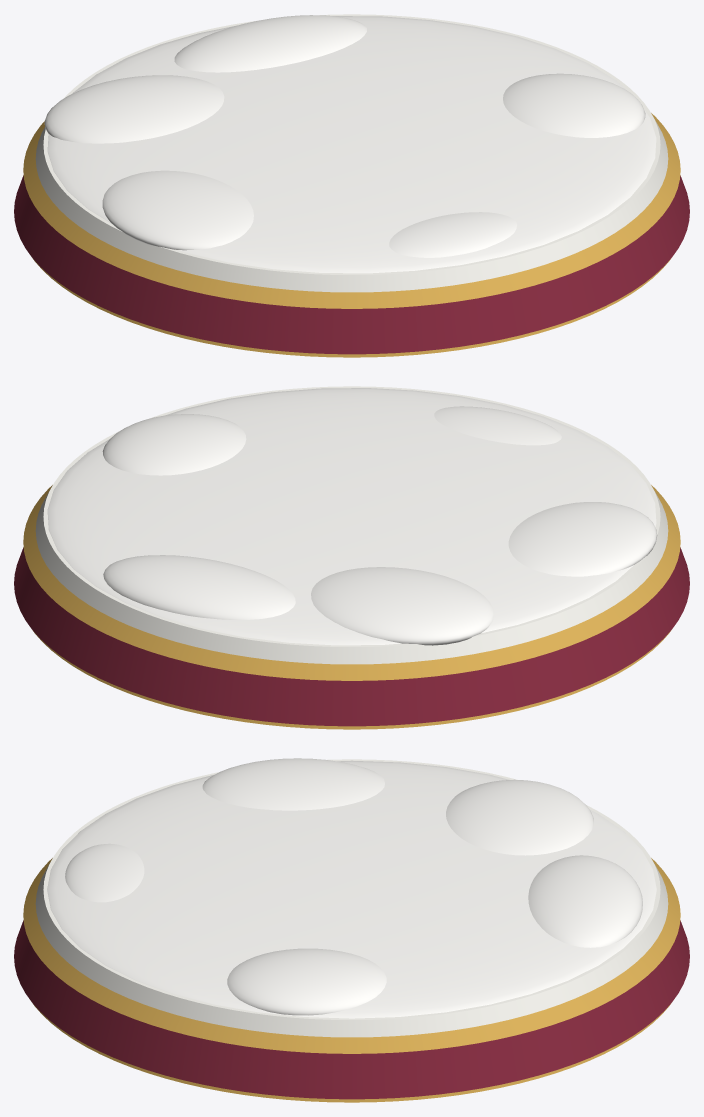
3 views of the same model, one above another, from view 1: azimuth 30°, elevation 25°; view 2: azimuth 150°, elevation 25°; view 3: azimuth 270°, elevation 25° (orthographic).
Parts seen in each view (by area): view 1: Soft_Snowdrifts, SnowglobeBase; view 2: Soft_Snowdrifts, SnowglobeBase; view 3: Soft_Snowdrifts, SnowglobeBase.
Boxes of the visible parts, <box> form: Soft_Snowdrifts: <box>44,15,656,273</box>; SnowglobeBase: <box>14,14,689,357</box>; Soft_Snowdrifts: <box>47,388,657,645</box>; SnowglobeBase: <box>14,386,689,729</box>; Soft_Snowdrifts: <box>47,758,656,1018</box>; SnowglobeBase: <box>14,759,689,1102</box>.
Bounding box in the file's own units: 4.36 × 0.6325 × 4.36.
